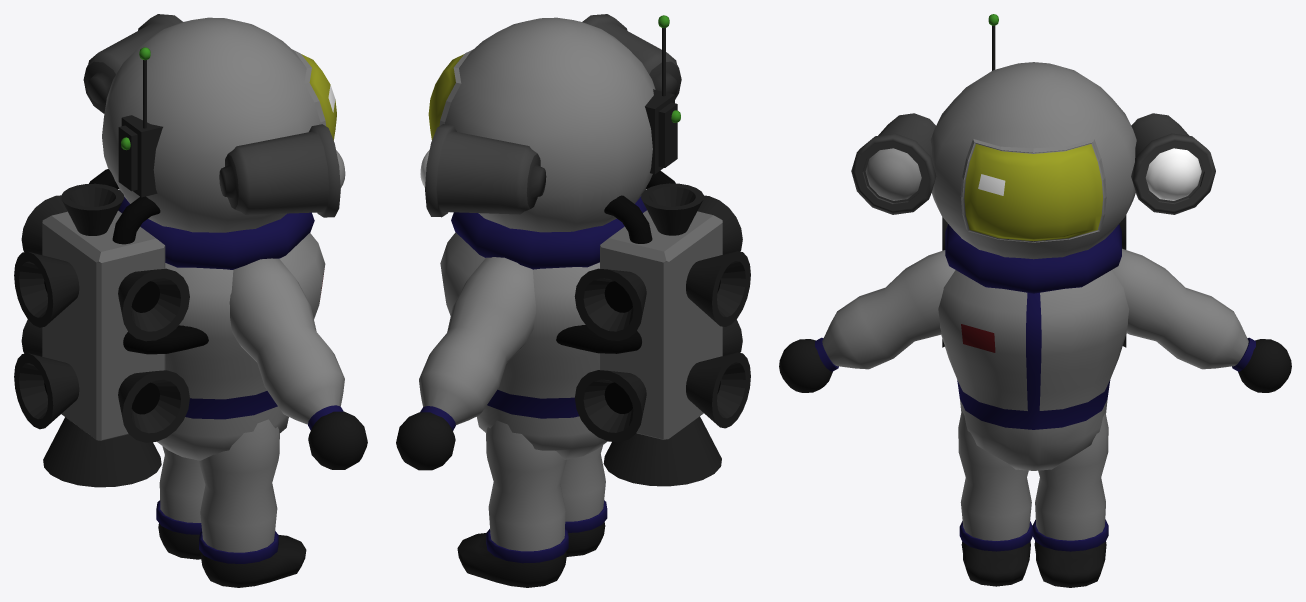
Rendered from Space_Man_Test.fbx.
3 renders of one model, left to right at view 1: azimuth 30°, elevation 25°; view 2: azimuth 150°, elevation 25°; view 3: azimuth 270°, elevation 25°, orthographic. The views are drawn at different scales.
Parts seen in each view (by area): view 1: polySurface174; view 2: polySurface174; view 3: polySurface174.
Boxes of the visible parts, <box> form: polySurface174: <box>14,14,367,587</box>; polySurface174: <box>396,14,750,587</box>; polySurface174: <box>779,14,1291,587</box>.
Bounding box in the file's own units: 6.85 × 12.34 × 11.37.
